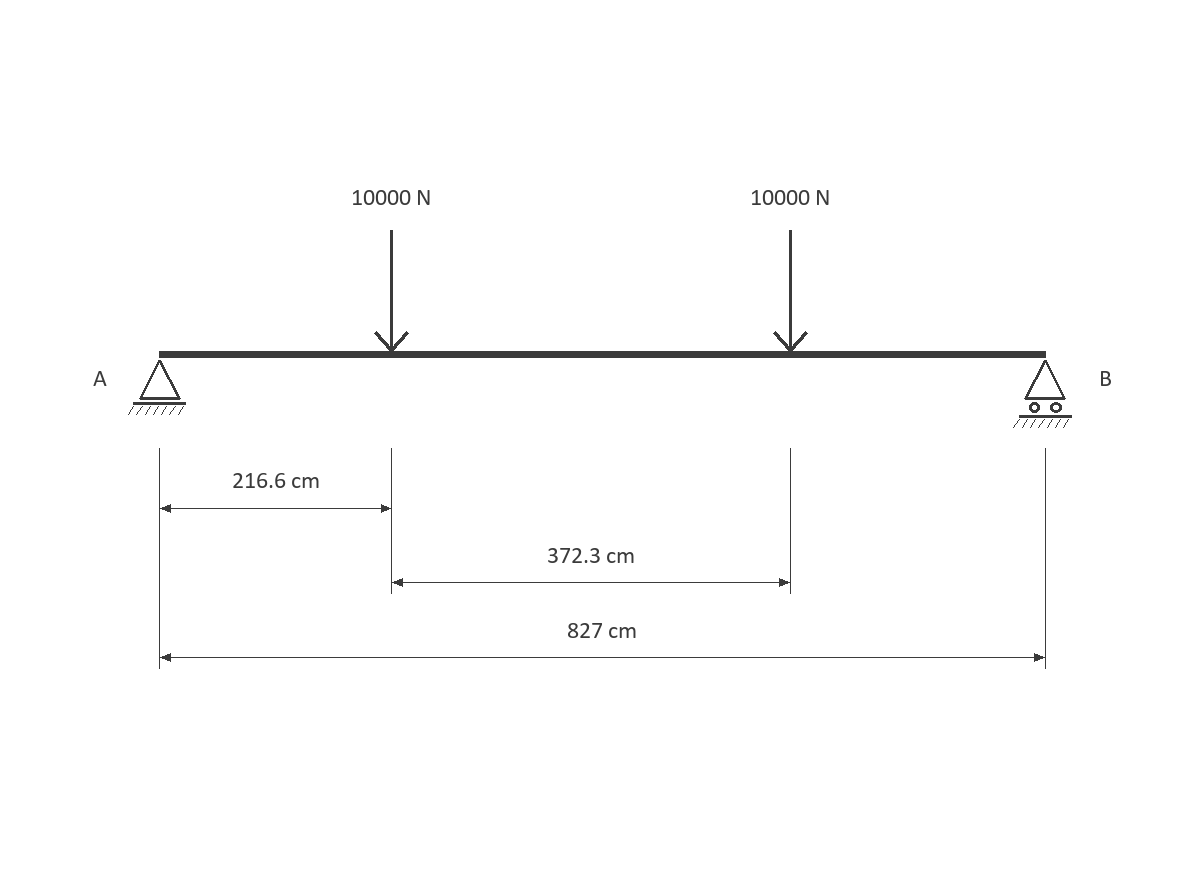pin_support: (128, 360, 186, 415)
point_load: (374, 230, 409, 352), (773, 230, 808, 352)
roller_support: (1013, 360, 1072, 428)
